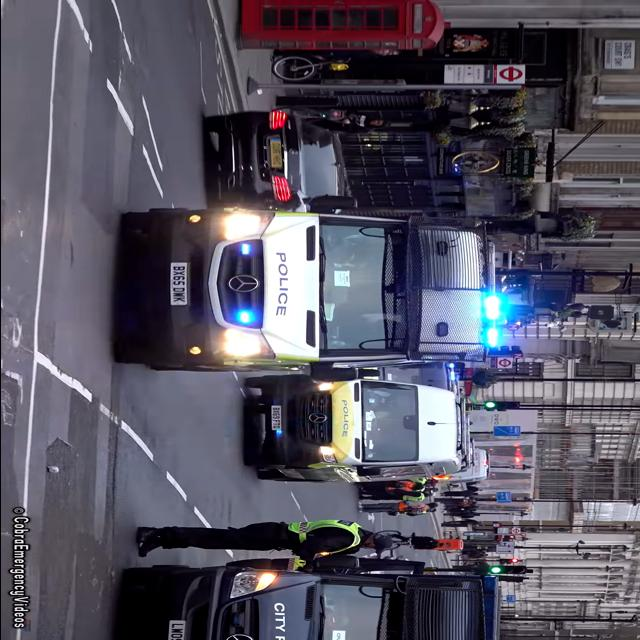emergency-vehicles: (121, 194, 521, 392)
